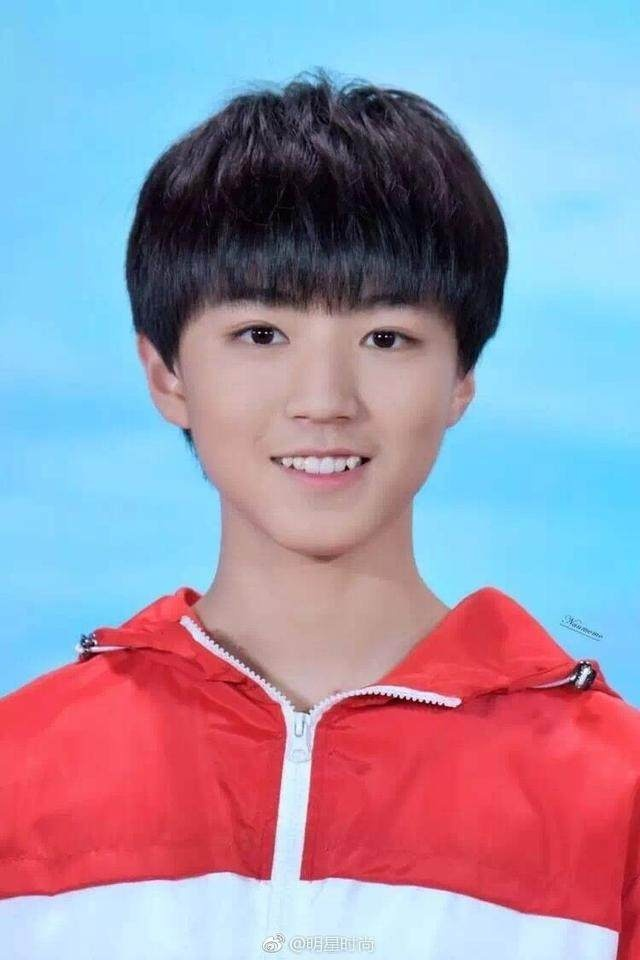unmask: (174, 252, 441, 550)
